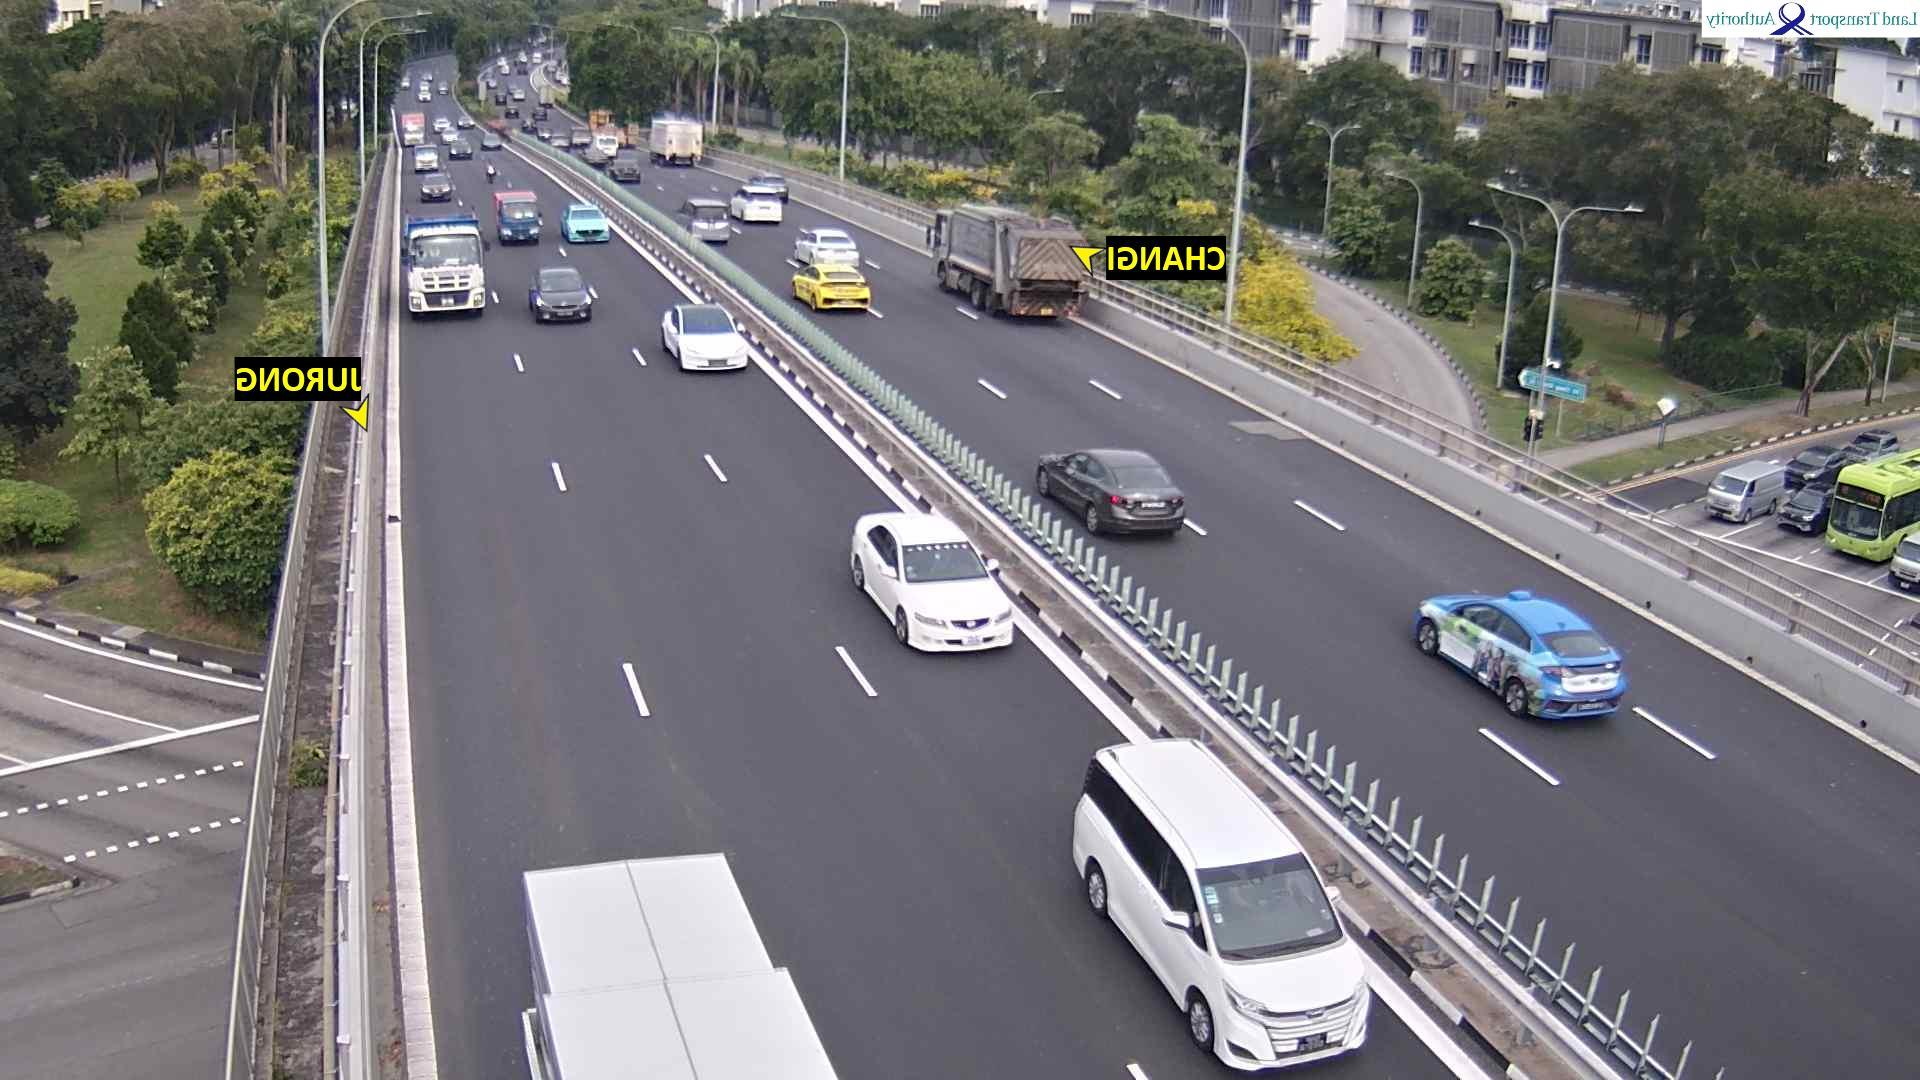incoming: (1156, 843, 1377, 1080), (880, 529, 1021, 662), (398, 229, 493, 322), (665, 301, 753, 380), (527, 266, 597, 324), (495, 200, 546, 251), (562, 204, 613, 245), (417, 174, 456, 203), (410, 145, 442, 174), (402, 125, 427, 149), (447, 140, 473, 161), (479, 132, 504, 153), (439, 129, 460, 146), (484, 162, 497, 186), (431, 119, 452, 133), (456, 116, 476, 131), (417, 90, 433, 103)
